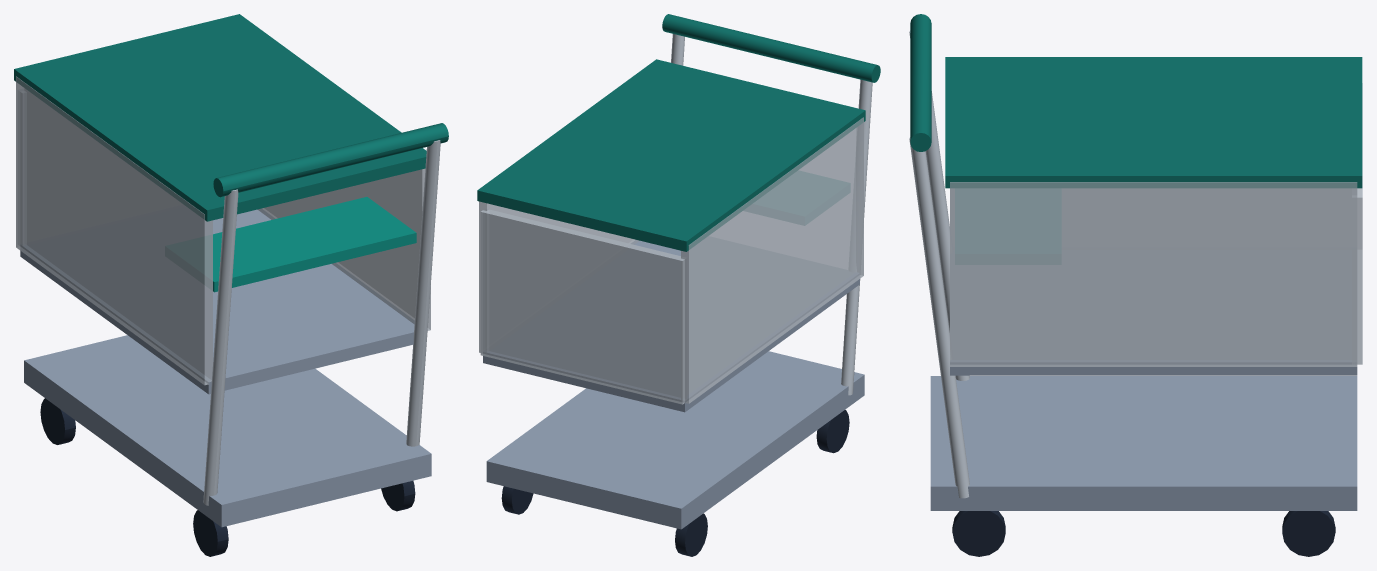
File: shopping-cart.glb
3 views of the same model, side by side, from view 1: azimuth 30°, elevation 25°; view 2: azimuth 150°, elevation 25°; view 3: azimuth 270°, elevation 25° (orthographic). The views are drawn at different scales.
Visible parts, largest first — view 1: Basket_Rim_Top, Chassis_Frame, Basket_Wall_L, Basket_Body, Child_Seat, Basket_Wall_R, Handle_Bar, Upright_Rear_L, Upright_Rear_R, Wheel_RL, Wheel_FL, Basket_Wall_Front (+1 smaller); view 2: Basket_Rim_Top, Chassis_Frame, Basket_Wall_Front, Basket_Wall_L, Basket_Body, Handle_Bar, Basket_Wall_R, Upright_Rear_L, Wheel_FL, Wheel_RL, Wheel_FR; view 3: Basket_Wall_R, Chassis_Frame, Basket_Rim_Top, Basket_Body, Upright_Rear_R, Handle_Bar, Upright_Rear_L, Wheel_RR, Wheel_FR, Basket_Wall_Front.
Boxes of the visible parts, bbox=[...] form: Basket_Rim_Top: bbox=[14, 14, 426, 221]; Chassis_Frame: bbox=[24, 335, 431, 527]; Basket_Wall_L: bbox=[16, 76, 212, 385]; Basket_Body: bbox=[20, 209, 414, 394]; Child_Seat: bbox=[213, 197, 416, 292]; Basket_Wall_R: bbox=[257, 168, 430, 330]; Handle_Bar: bbox=[213, 123, 448, 197]; Upright_Rear_L: bbox=[203, 189, 238, 505]; Upright_Rear_R: bbox=[406, 140, 440, 446]; Wheel_RL: bbox=[193, 510, 228, 556]; Wheel_FL: bbox=[40, 398, 75, 444]; Basket_Wall_Front: bbox=[20, 91, 26, 245]; Basket_Rim_Top: bbox=[477, 59, 865, 251]; Chassis_Frame: bbox=[486, 351, 864, 529]; Basket_Wall_Front: bbox=[480, 209, 686, 404]; Basket_Wall_L: bbox=[681, 117, 863, 403]; Basket_Body: bbox=[483, 240, 859, 412]; Handle_Bar: bbox=[662, 14, 880, 82]; Basket_Wall_R: bbox=[479, 201, 639, 352]; Upright_Rear_L: bbox=[841, 79, 872, 395]; Wheel_FL: bbox=[675, 513, 707, 556]; Wheel_RL: bbox=[816, 410, 849, 453]; Wheel_FR: bbox=[501, 486, 533, 514]; Basket_Wall_R: bbox=[950, 182, 1357, 366]; Chassis_Frame: bbox=[930, 376, 1357, 510]; Basket_Rim_Top: bbox=[945, 57, 1362, 188]; Basket_Body: bbox=[950, 360, 1357, 375]; Upright_Rear_R: bbox=[909, 137, 969, 498]; Handle_Bar: bbox=[910, 14, 931, 151]; Upright_Rear_L: bbox=[909, 30, 969, 380]; Wheel_RR: bbox=[952, 511, 1005, 556]; Wheel_FR: bbox=[1282, 511, 1335, 556]; Basket_Wall_Front: bbox=[1352, 83, 1362, 364].
Size of the model in its own units: 0.582 by 0.982 by 0.935.
